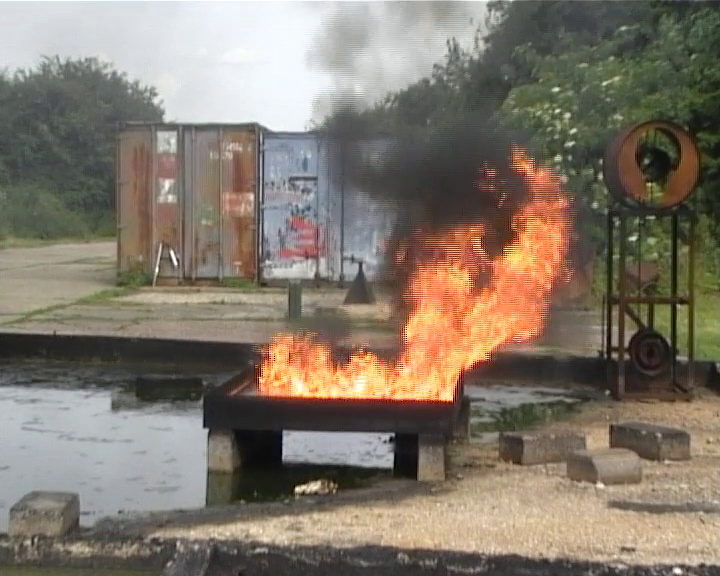fire: (264, 164, 565, 399)
